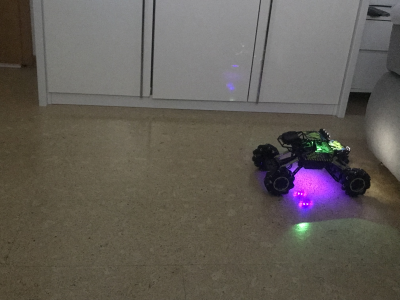remote control car: (248, 127, 373, 197)
